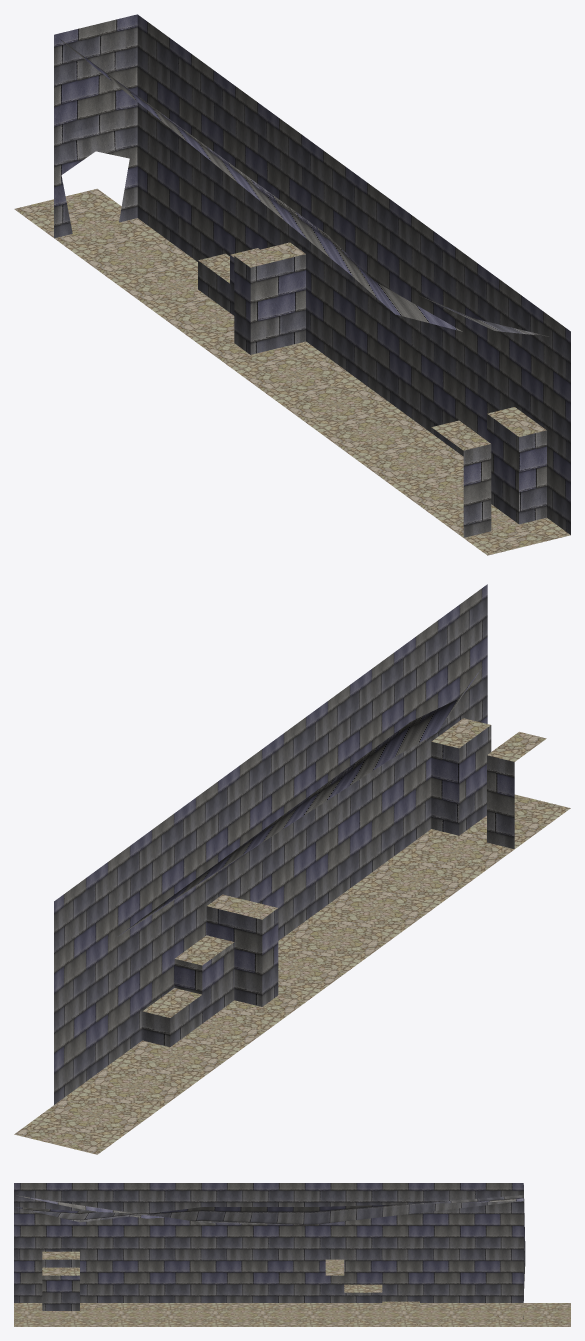
3 renders of one model, top to bottom at view 1: azimuth 30°, elevation 25°; view 2: azimuth 150°, elevation 25°; view 3: azimuth 270°, elevation 25°, orthographic. The views are drawn at different scales.
Parts seen in each view (by area): view 1: SCENE0_Walls_Mesh, SCENE0_Floor_Mesh, SCENE0_Ceiling_Mesh; view 2: SCENE0_Walls_Mesh, SCENE0_Floor_Mesh, SCENE0_Ceiling_Mesh; view 3: SCENE0_Walls_Mesh, SCENE0_Floor_Mesh, SCENE0_Ceiling_Mesh.
Part boxes in pixels (x1,y1,x2,y2): SCENE0_Walls_Mesh: (54,14,570,537); SCENE0_Floor_Mesh: (14,188,570,555); SCENE0_Ceiling_Mesh: (56,36,548,336); SCENE0_Walls_Mesh: (54,584,514,1104); SCENE0_Floor_Mesh: (14,718,570,1154); SCENE0_Ceiling_Mesh: (119,670,480,935); SCENE0_Walls_Mesh: (14,1183,525,1319); SCENE0_Floor_Mesh: (14,1251,570,1326); SCENE0_Ceiling_Mesh: (14,1195,523,1224).
Size of the model in its own units: 6.64 by 14 by 59.
Materials: 2 (2 with a texture image).
